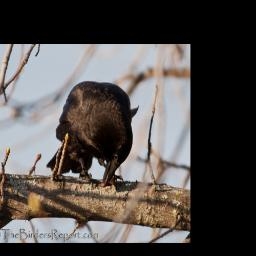Crow: (45, 80, 142, 188)
